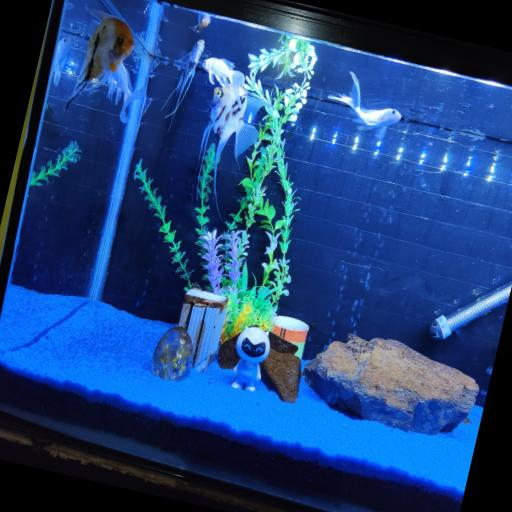Fish: (200, 87, 264, 214), (66, 11, 134, 108), (329, 72, 401, 138), (162, 40, 204, 129), (107, 64, 143, 123), (203, 58, 245, 102), (53, 36, 72, 86), (191, 14, 210, 33)
